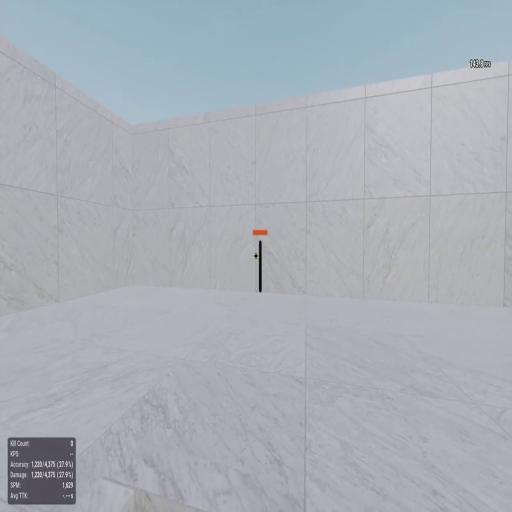Crosshair: (254, 252, 258, 261)
Target: (259, 241, 262, 293)
